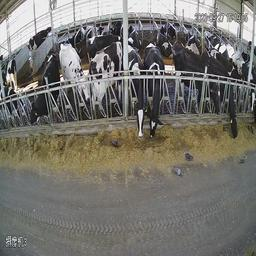cow: (172, 41, 223, 113), (29, 53, 57, 137), (145, 41, 163, 143), (60, 43, 90, 104), (126, 43, 145, 138), (221, 63, 240, 138), (27, 25, 51, 52), (156, 27, 174, 58), (184, 28, 201, 53), (2, 59, 17, 87), (129, 21, 142, 43), (63, 31, 81, 45), (86, 23, 98, 43)
